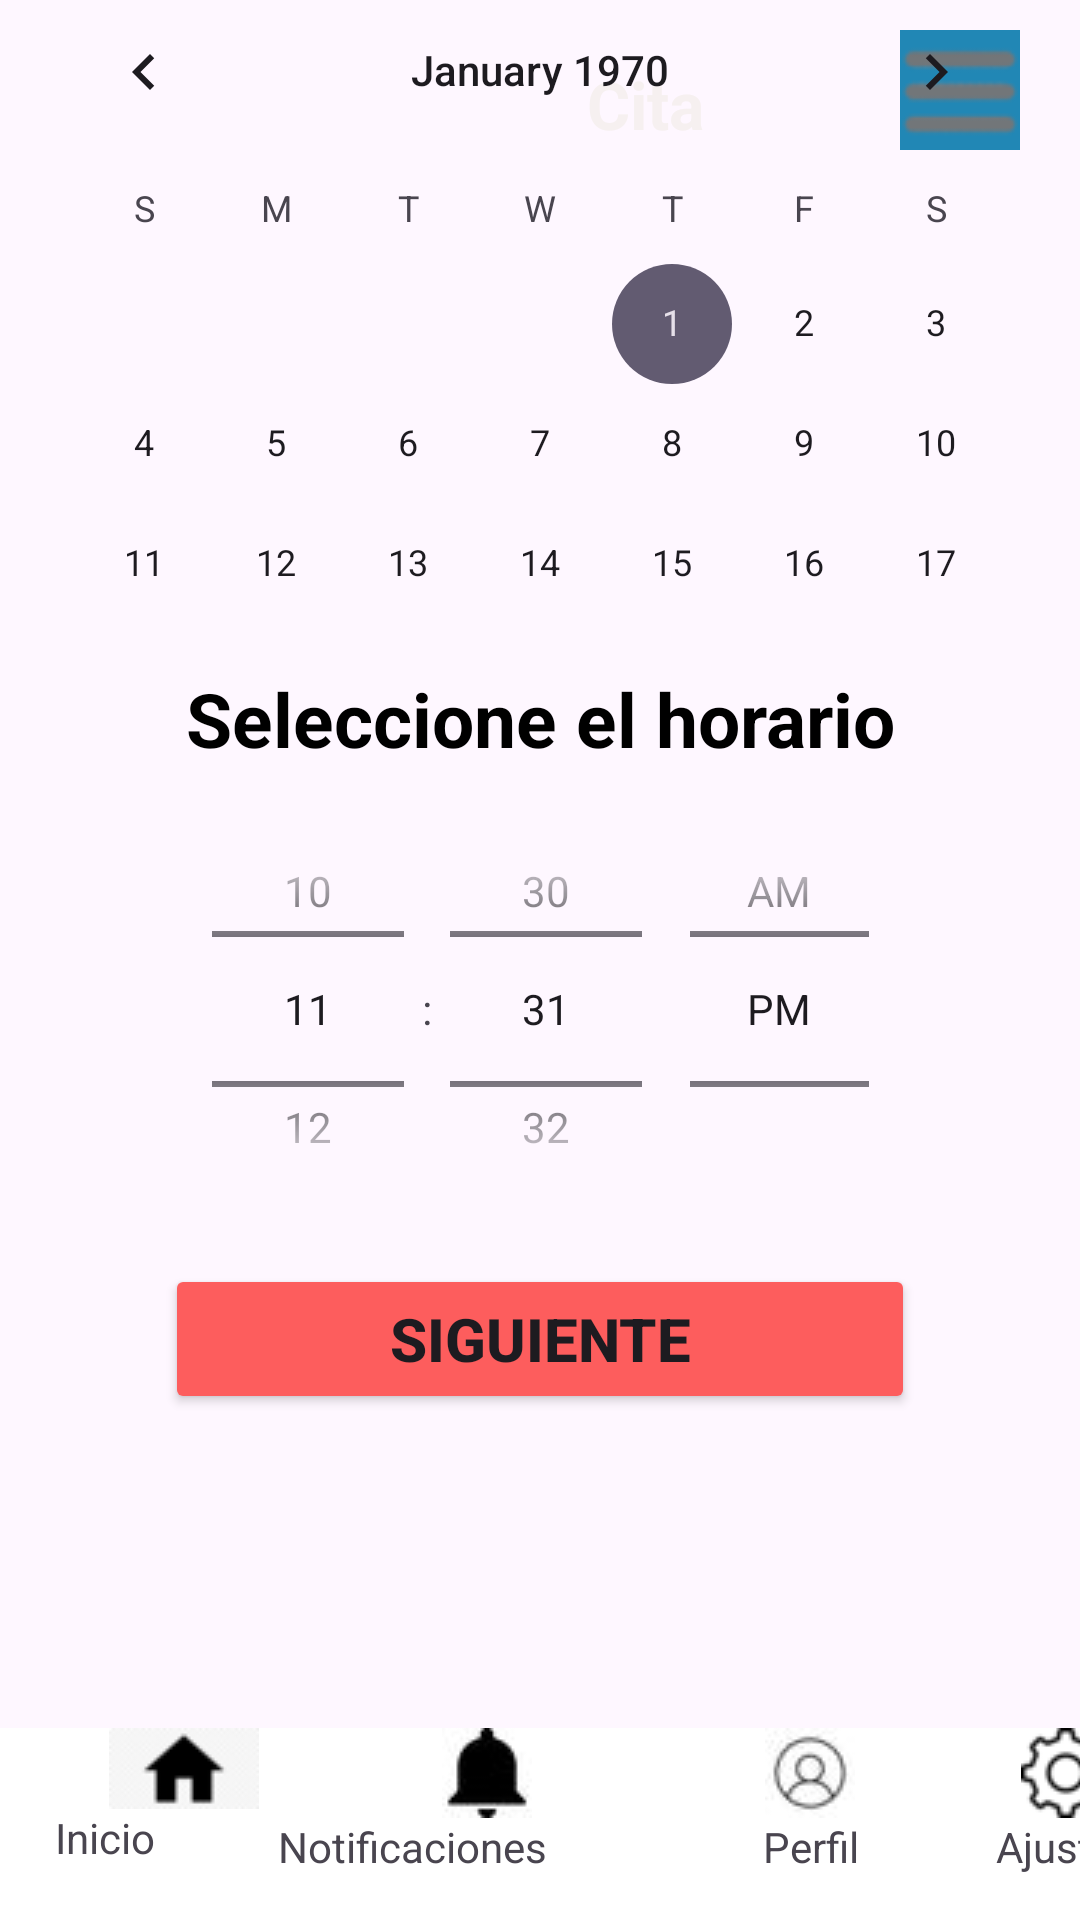

Screen size 1080px×1920px. Icon name, then its center in pixels as (x,y):
menu: (960,90)
